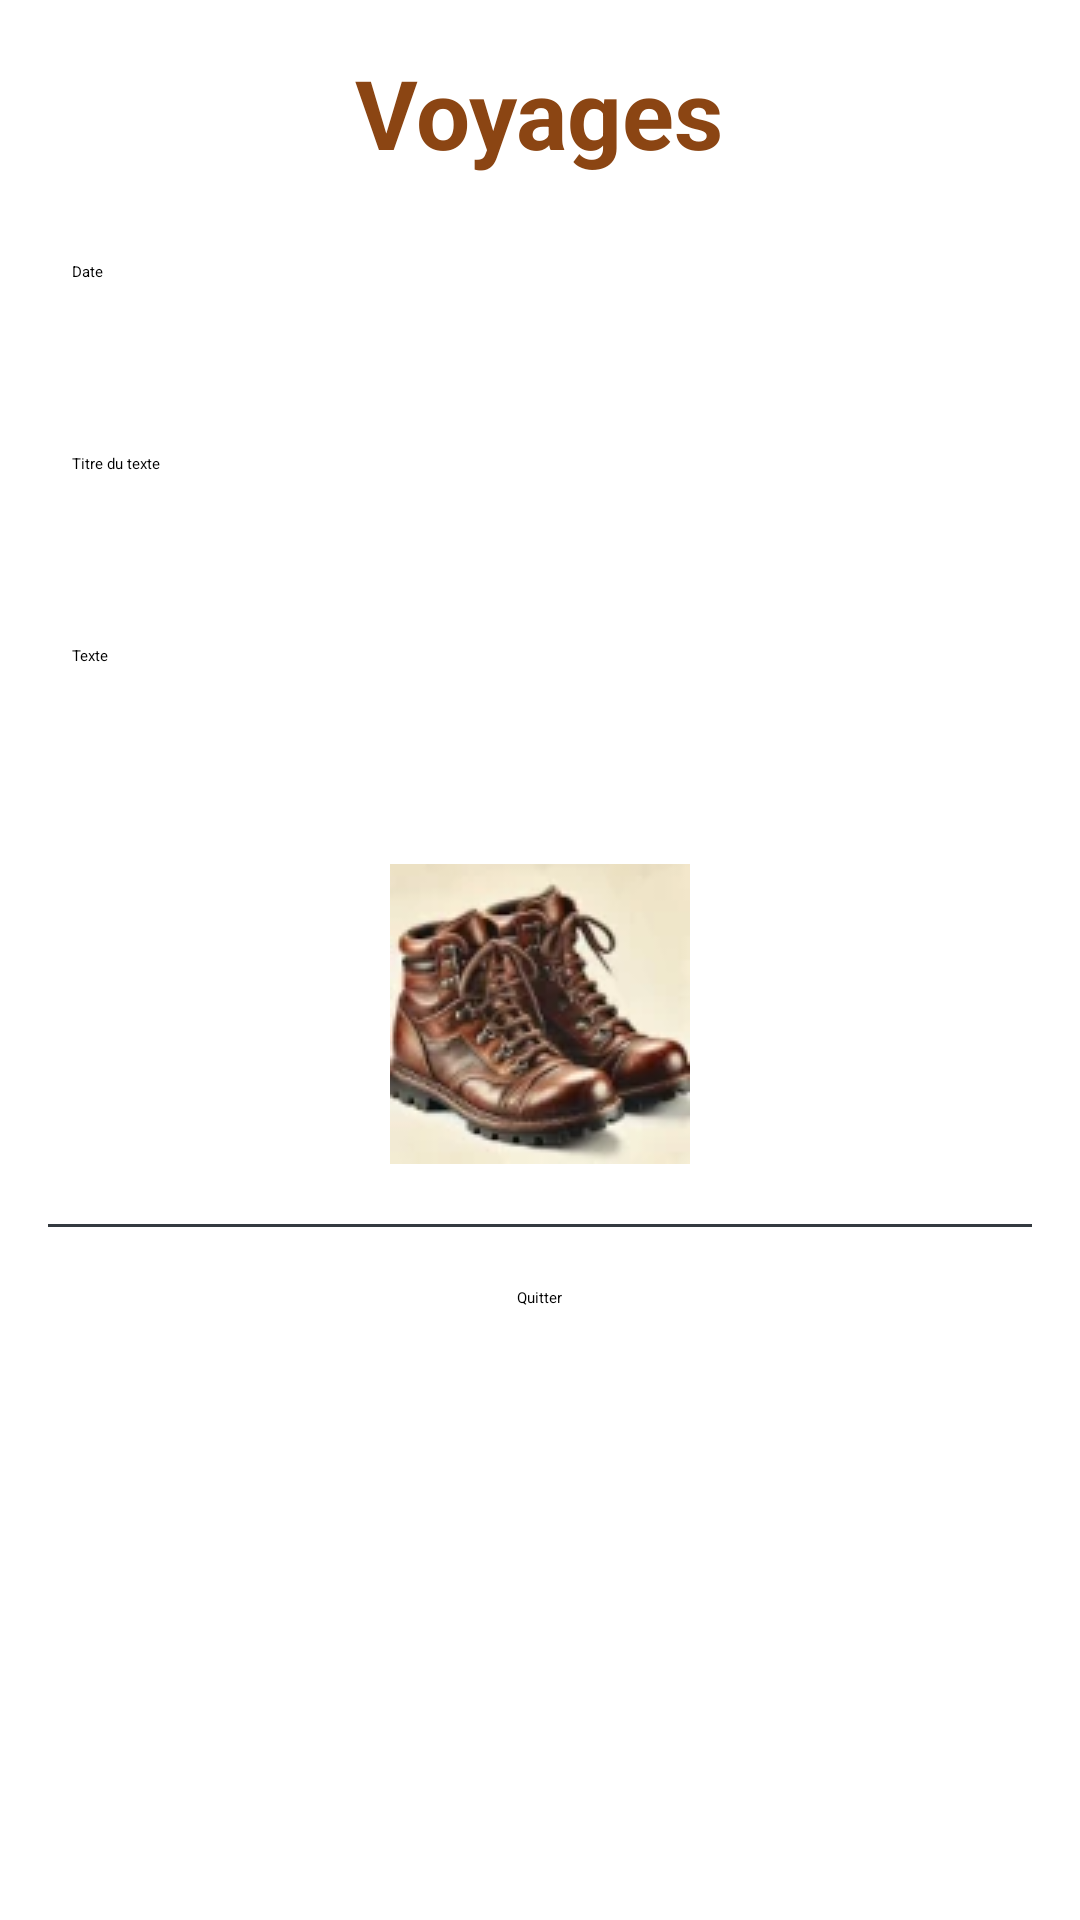

Icons on this 1080 x 1920 Android screen, each with the point to tap as point (x, y):
Image de chaussures: point (540, 1014)
